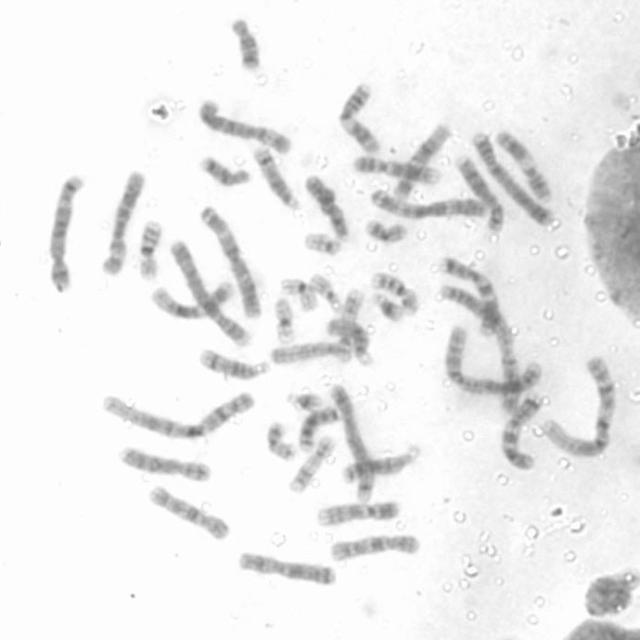A1: (537, 354, 616, 461), (101, 390, 254, 439)
A2: (437, 282, 524, 414), (444, 325, 544, 397)
A3: (200, 203, 264, 320), (368, 188, 490, 222)
B4: (168, 239, 252, 349), (471, 130, 557, 228)
B5: (326, 382, 376, 502), (47, 172, 87, 292)
C10: (145, 484, 232, 543), (328, 532, 420, 562)
C11: (494, 129, 553, 204), (338, 82, 380, 157)
C12: (392, 122, 452, 200), (151, 278, 235, 321)
C6: (198, 99, 295, 156), (101, 170, 149, 276)
C7: (440, 253, 501, 338), (496, 394, 546, 473)
C8: (454, 154, 506, 235), (117, 444, 214, 485)
C9: (354, 152, 444, 186), (316, 499, 404, 529)
D13: (341, 442, 424, 484), (297, 407, 342, 452)
D14: (250, 144, 302, 214), (198, 347, 272, 382)
D15: (326, 317, 374, 366), (268, 340, 353, 366)
E16: (370, 271, 420, 318), (138, 217, 164, 281)
E17: (288, 432, 338, 496), (335, 286, 365, 363)
E18: (196, 153, 251, 189), (228, 15, 263, 70)
F19: (279, 276, 319, 312), (271, 296, 299, 344)
F20: (265, 421, 299, 463), (364, 217, 408, 245)
G21: (371, 292, 403, 324), (283, 388, 325, 412)
G22: (309, 270, 343, 312), (302, 230, 343, 258)
X: (236, 550, 340, 587), (303, 171, 351, 239)
